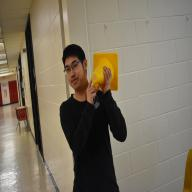cone: (92, 53, 118, 91)
